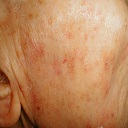Actinic: (18, 22, 82, 71)
